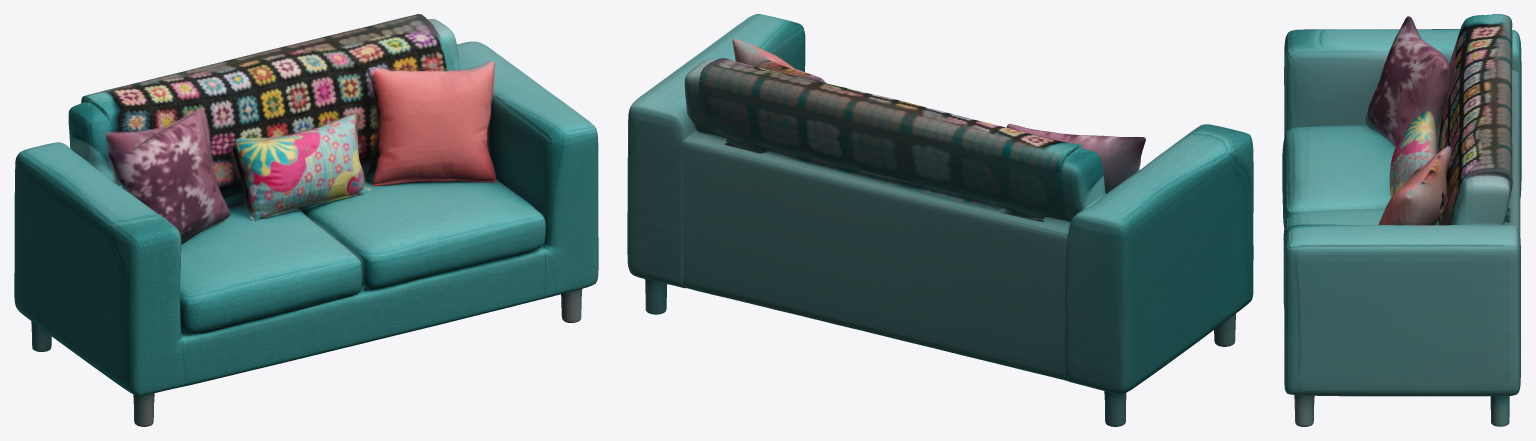
The model's file is sofa.glb.
3 renders of one model, left to right at view 1: azimuth 30°, elevation 25°; view 2: azimuth 150°, elevation 25°; view 3: azimuth 270°, elevation 25°, orthographic. The views are drawn at different scales.
Parts seen in each view (by area): view 1: geometry_0; view 2: geometry_0; view 3: geometry_0.
Boxes of the visible parts, x1,y1,x2,y2 form: geometry_0: (14, 14, 598, 426); geometry_0: (627, 14, 1253, 426); geometry_0: (1282, 14, 1521, 426).
Bounding box in the file's own units: 0.9959 × 0.49 × 0.458.
1 material, 1 textured.
